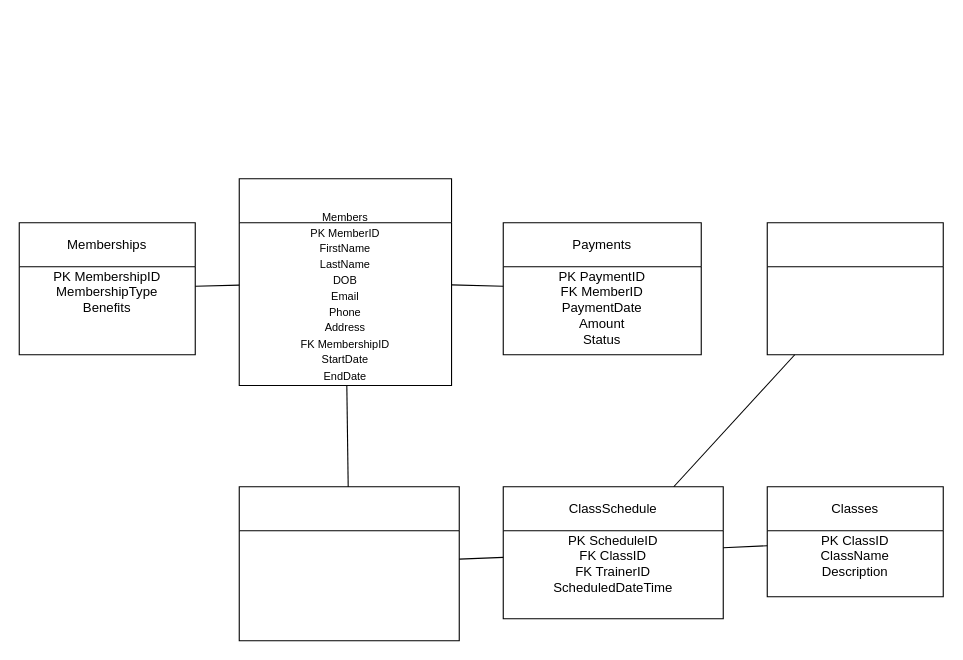
Some shapes in this 963 by 660 pixel diagram are drawn without their labels. Each missing label, with the centre of its shape:
"Bookings PK BookingID FK MemberID FK ScheduleID BookingDate AttendanceStatus" belongs at point 348,563.
"Trainers PK TrainerID FirstName LastName Specialty" belongs at point 854,288.
